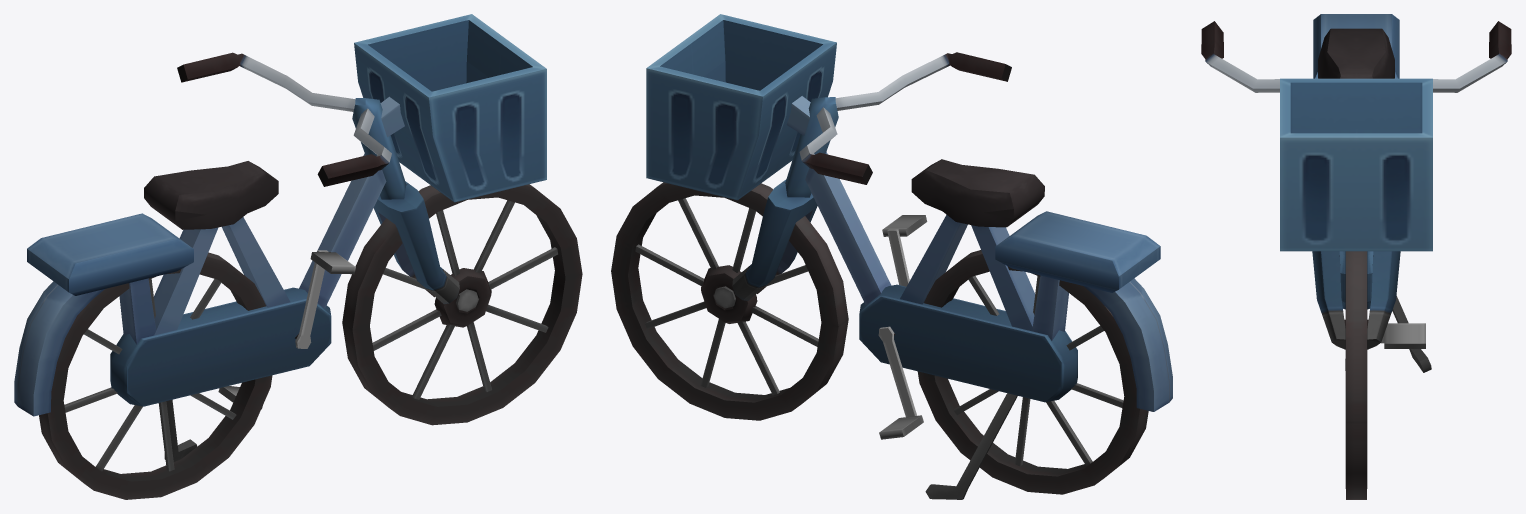
Rendered from zixingche.FBX.
The picture shows the model from 3 angles, left to right: view 1: azimuth 30°, elevation 25°; view 2: azimuth 150°, elevation 25°; view 3: azimuth 270°, elevation 25°; orthographic projection. The views are drawn at different scales.
Visible parts, largest first — view 1: Box05; view 2: Box05; view 3: Box05.
Boxes of the visible parts, box(x1,y1,x2,y2) form: Box05: box(14, 14, 582, 499); Box05: box(611, 14, 1172, 499); Box05: box(1201, 14, 1511, 499).
Size of the model in its own units: 244 by 153 by 114.
